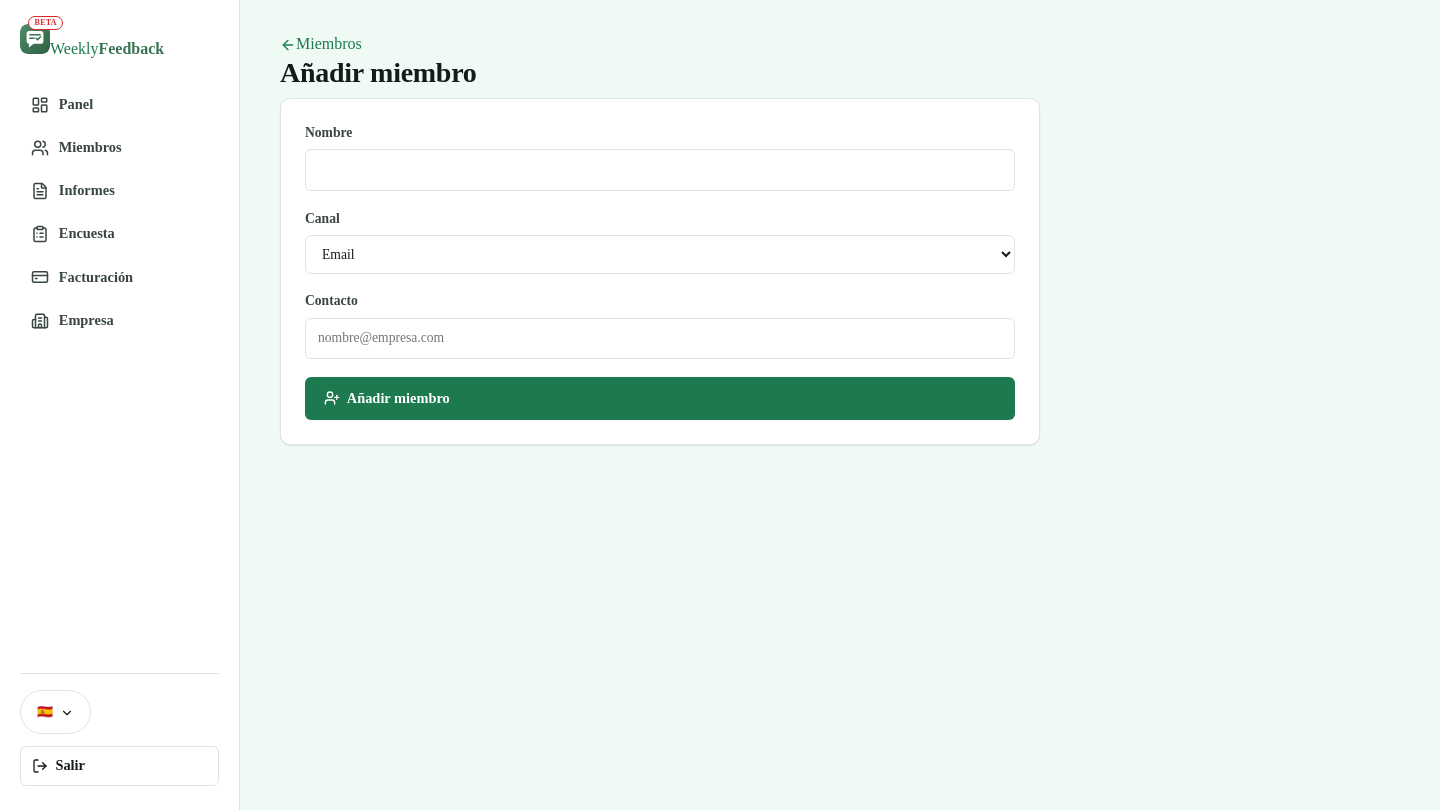
Test: NewMemberPage › cambiar a WhatsApp cambia el input de contacto al selector de país + número
Select "WhatsApp" in the dropdown labelled "Canal" at (660, 254), box [305,235,1015,274]
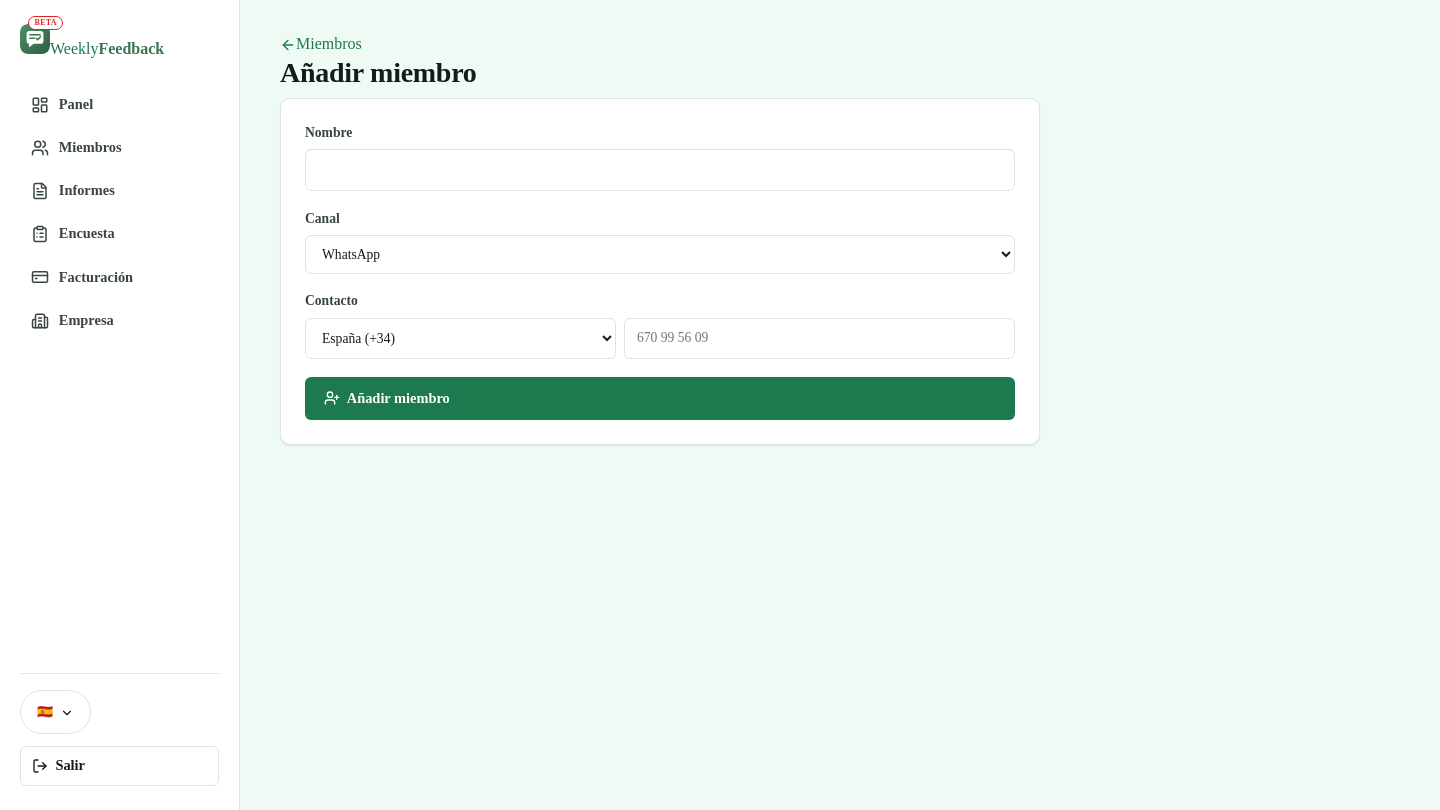
Expected: the field with placeholder "nombre@empresa.com" is not shown
Expected: the dropdown named "País" is shown, [305,318,616,360]
